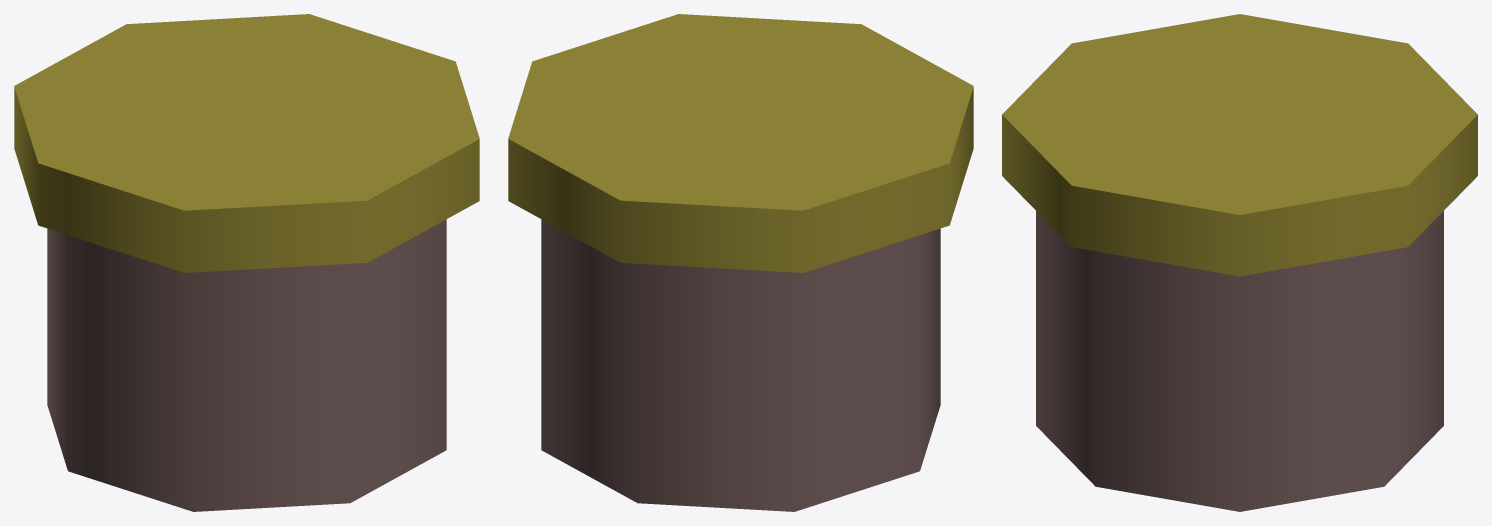
The model's file is Jar_Kitchen_02.fbx.
3 views of the same model, side by side, from view 1: azimuth 30°, elevation 25°; view 2: azimuth 150°, elevation 25°; view 3: azimuth 270°, elevation 25° (orthographic).
Parts seen in each view (by area): view 1: Jar_Lid_02, Jar_Kitchen_02; view 2: Jar_Lid_02, Jar_Kitchen_02; view 3: Jar_Lid_02, Jar_Kitchen_02.
Part boxes in pixels (box(x1,y1,x2,y2)): Jar_Lid_02: box(14, 14, 479, 272); Jar_Kitchen_02: box(47, 219, 446, 511); Jar_Lid_02: box(508, 14, 973, 272); Jar_Kitchen_02: box(541, 219, 940, 511); Jar_Lid_02: box(1002, 14, 1477, 276); Jar_Kitchen_02: box(1036, 211, 1443, 511).
Bounding box in the file's own units: 0.8545 × 0.6165 × 0.8545.
